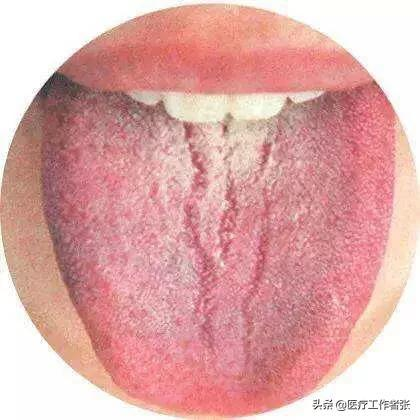baitaishe: (39, 123, 394, 417)
liewenshe: (179, 124, 276, 360)
